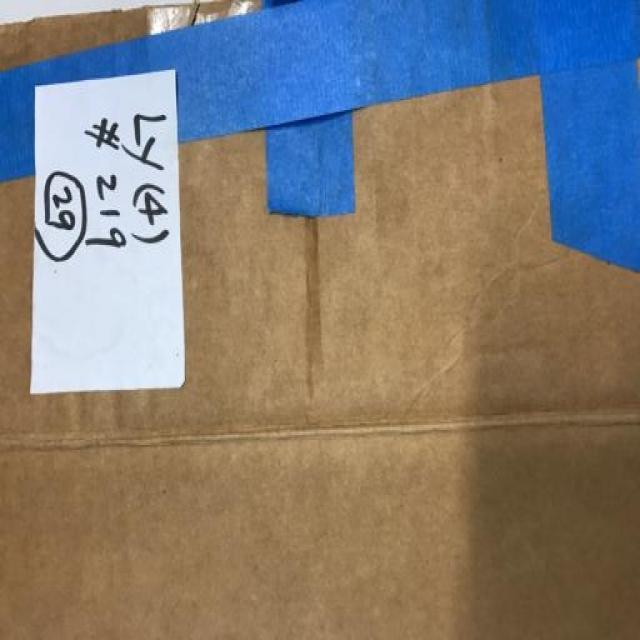cardboard paper: (0, 76, 638, 638), (0, 8, 147, 68)
